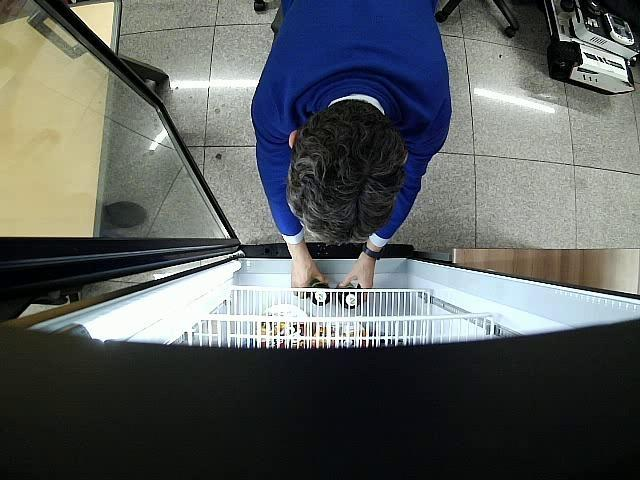19_17cha: (336, 283, 360, 309), (309, 282, 331, 306)
